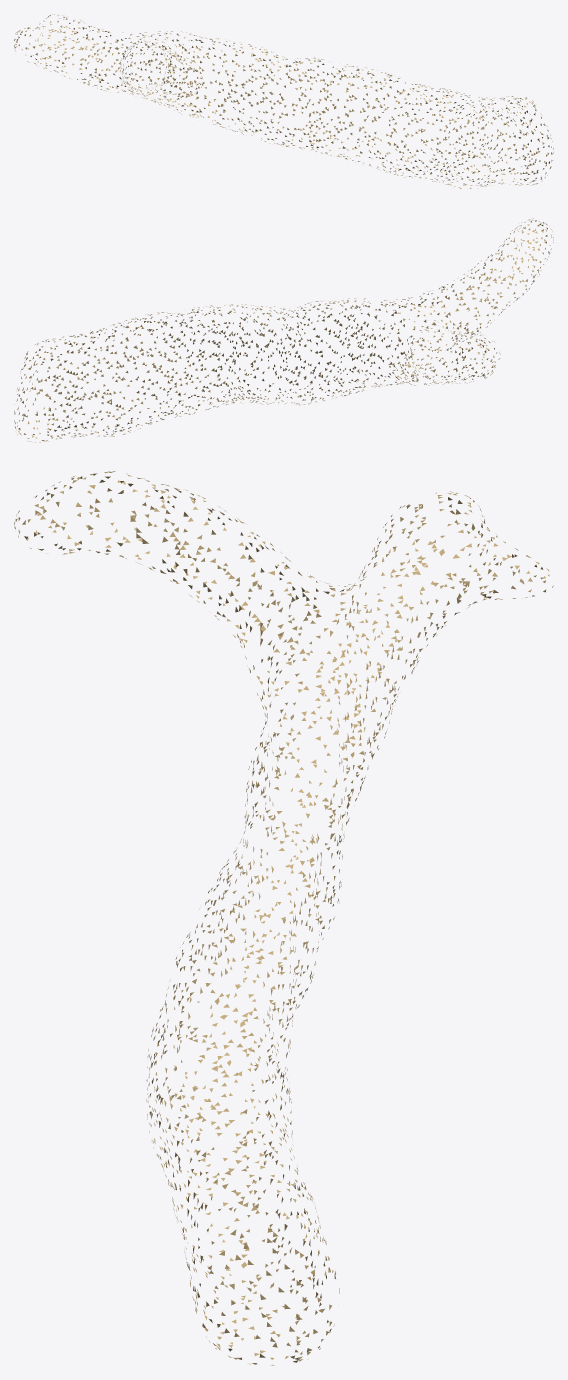
File: morph_007.glb
3 renders of one model, top to bottom at view 1: azimuth 30°, elevation 25°; view 2: azimuth 150°, elevation 25°; view 3: azimuth 270°, elevation 25°, orthographic. The views are drawn at different scales.
Bounding box in the file's own units: 130 × 68.29 × 65.6.
